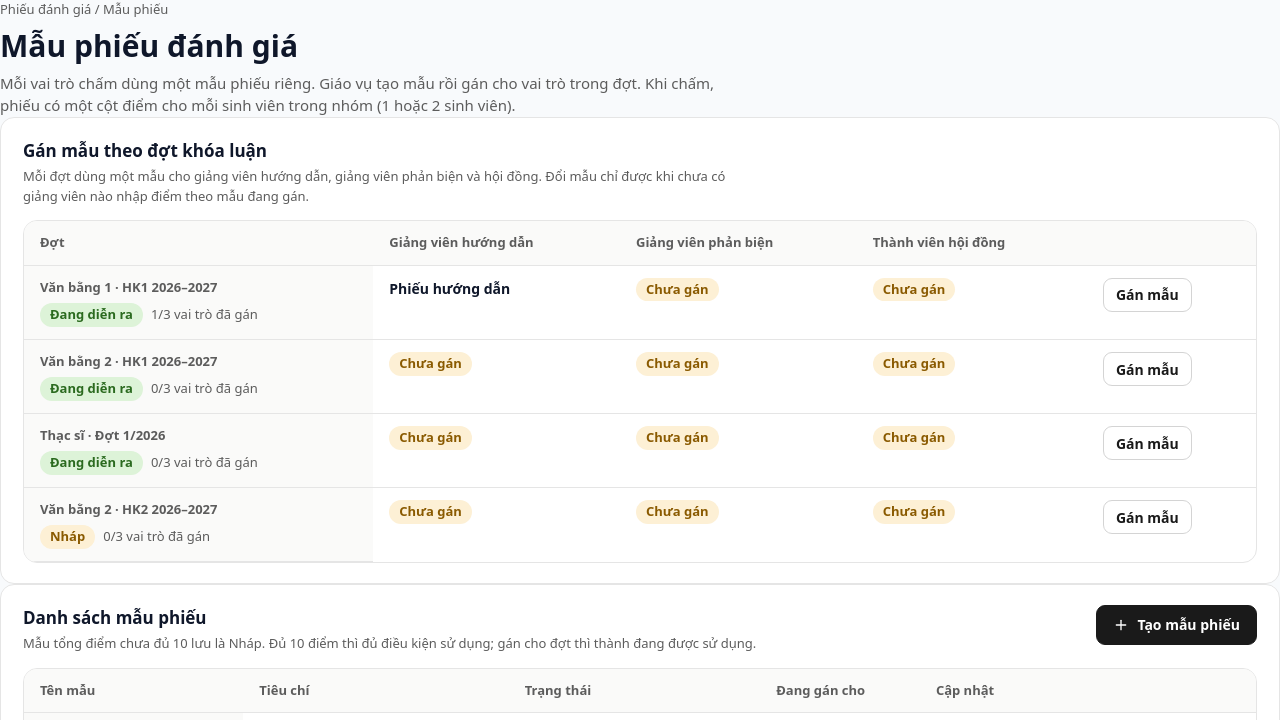
Test case: names a new template so it does not clash and can be closed
Check: the heading "Danh sách mẫu phiếu" is shown, box 23,606 -> 206,628
Click the button "Tạo mẫu phiếu" at point(1177, 624), box 1096,604 -> 1257,644
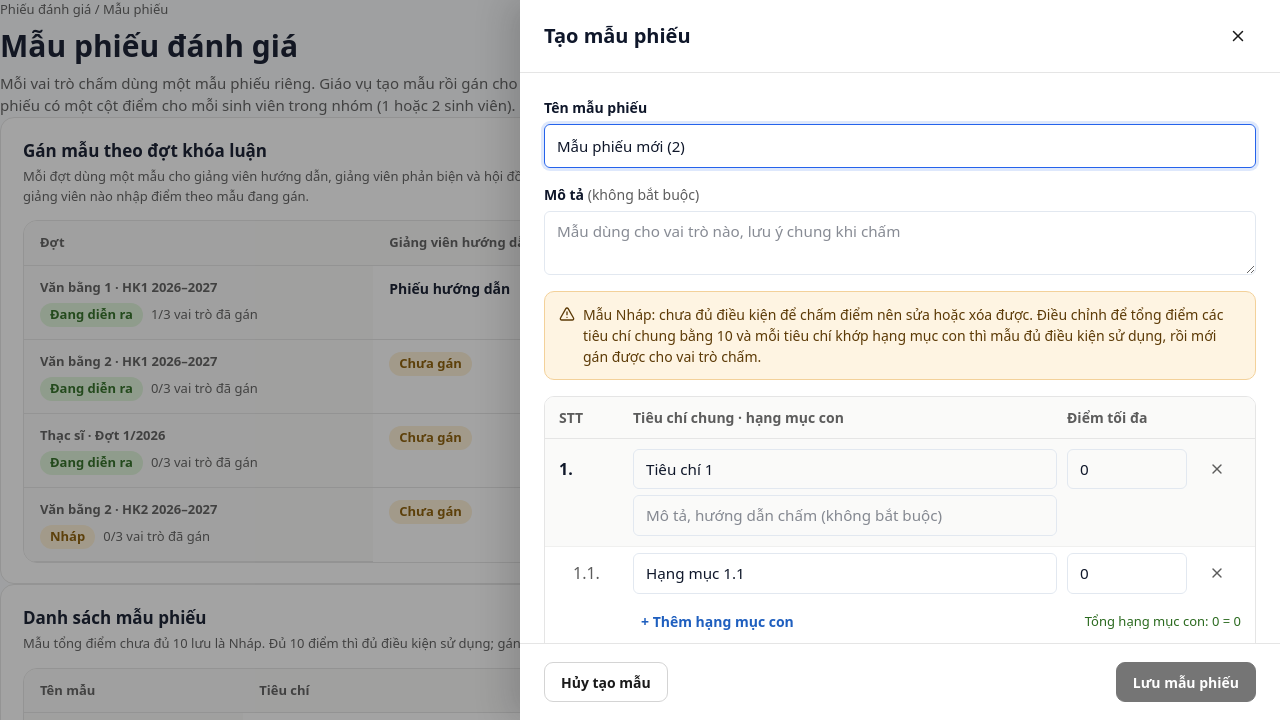
Check: the field labelled "Tên mẫu phiếu" holds "Mẫu phiếu mới (2)", box 544,124 -> 1256,168
Click the button named "Đóng" at point(1238, 36), box 1220,18 -> 1256,54
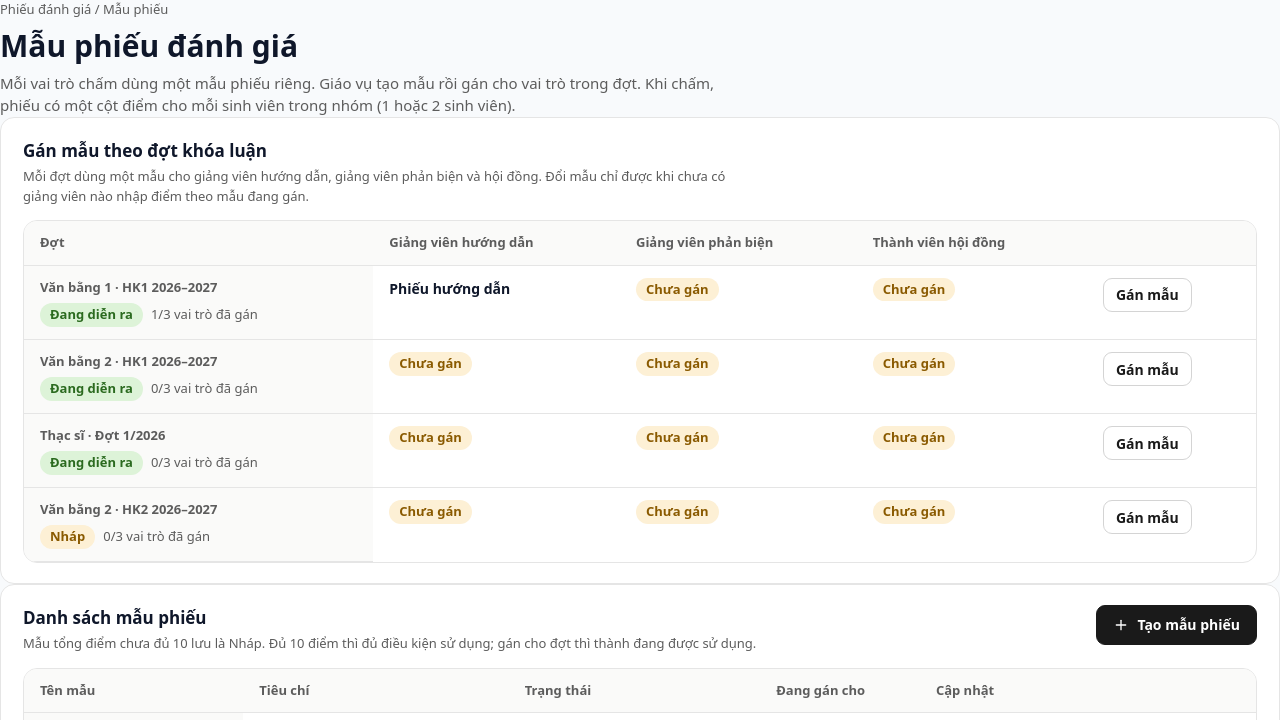
Check: the dialog is gone
Click the button "Tạo mẫu phiếu" at point(1177, 624), box 1096,604 -> 1257,644
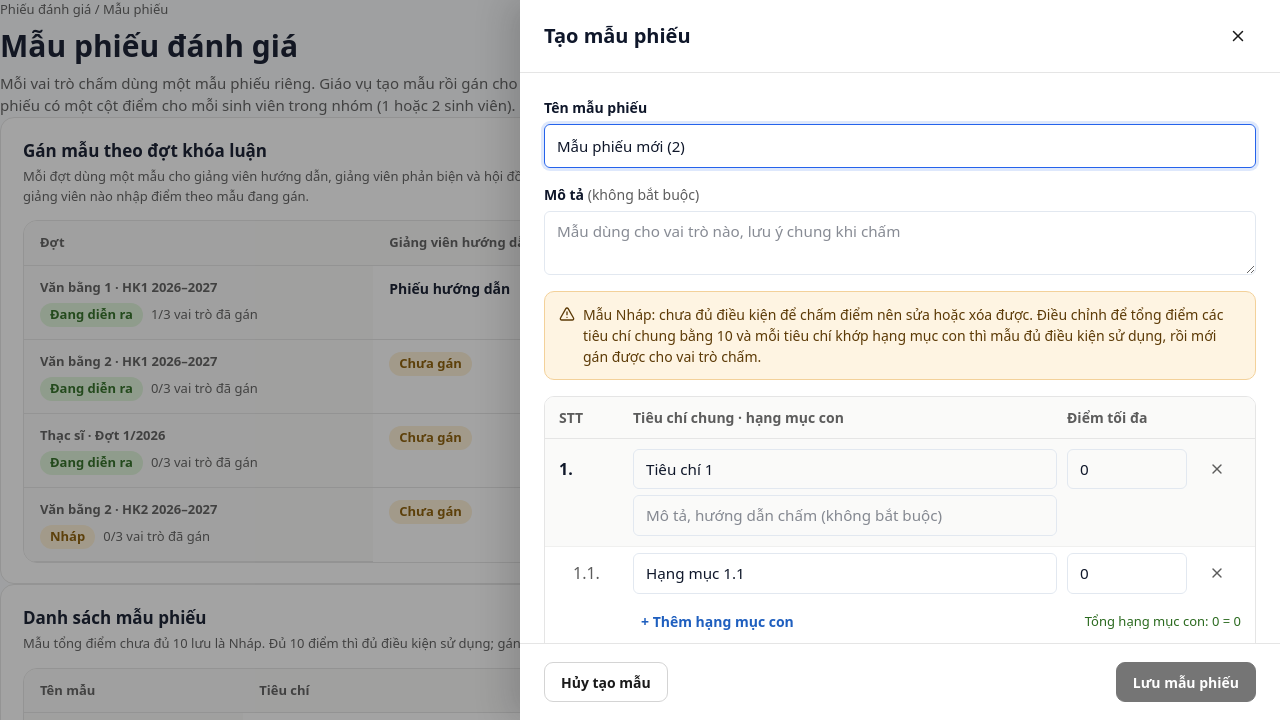
Press Escape
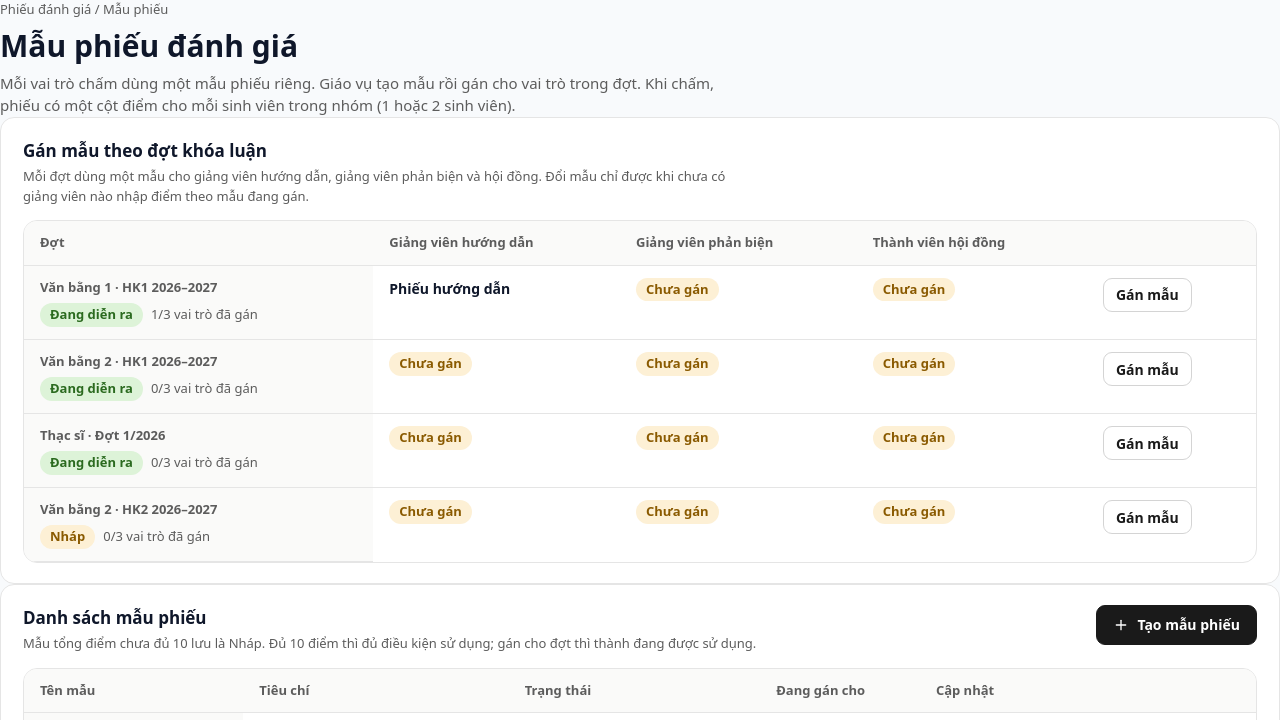
Check: the dialog is gone
